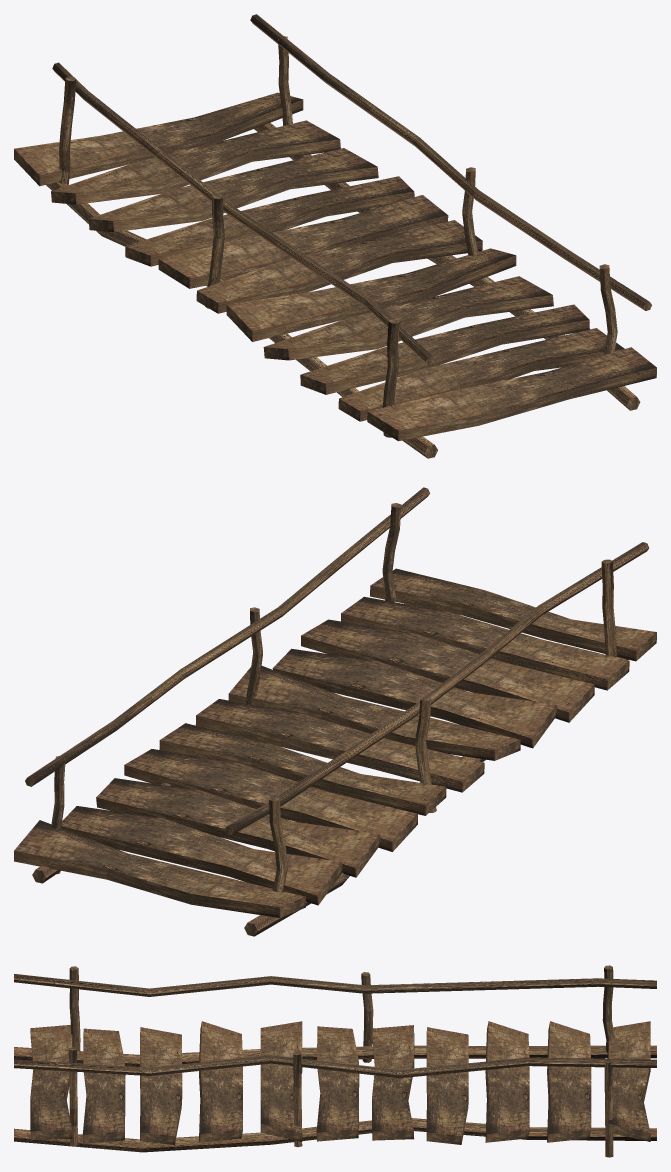
File: old_bridge.fbx
3 renders of one model, top to bottom at view 1: azimuth 30°, elevation 25°; view 2: azimuth 150°, elevation 25°; view 3: azimuth 270°, elevation 25°, orthographic. The views are drawn at different scales.
Visible parts, largest first — view 1: bridge; view 2: bridge; view 3: bridge.
Boxes of the visible parts, bbox=[...] form: bridge: bbox=[14, 14, 656, 458]; bridge: bbox=[14, 487, 656, 936]; bridge: bbox=[14, 965, 656, 1157].
Size of the model in its own units: 384 by 173 by 969.
1 material, 1 textured.
